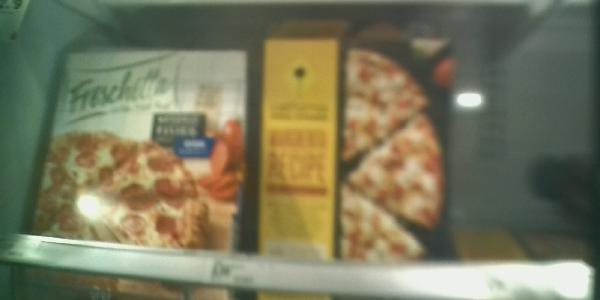pizza1: (9, 46, 248, 296), (257, 34, 450, 257)
